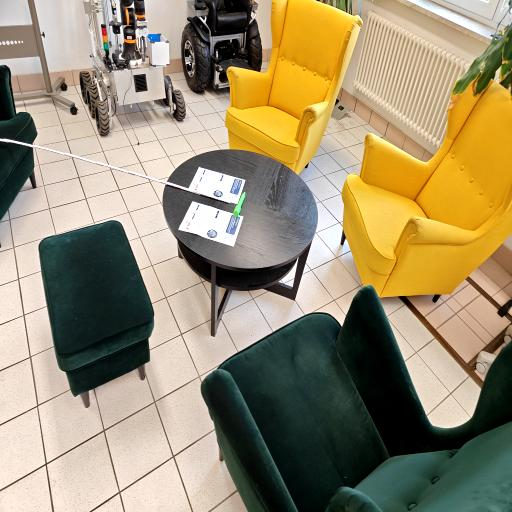Probe-Detection: (233, 192, 246, 218)
